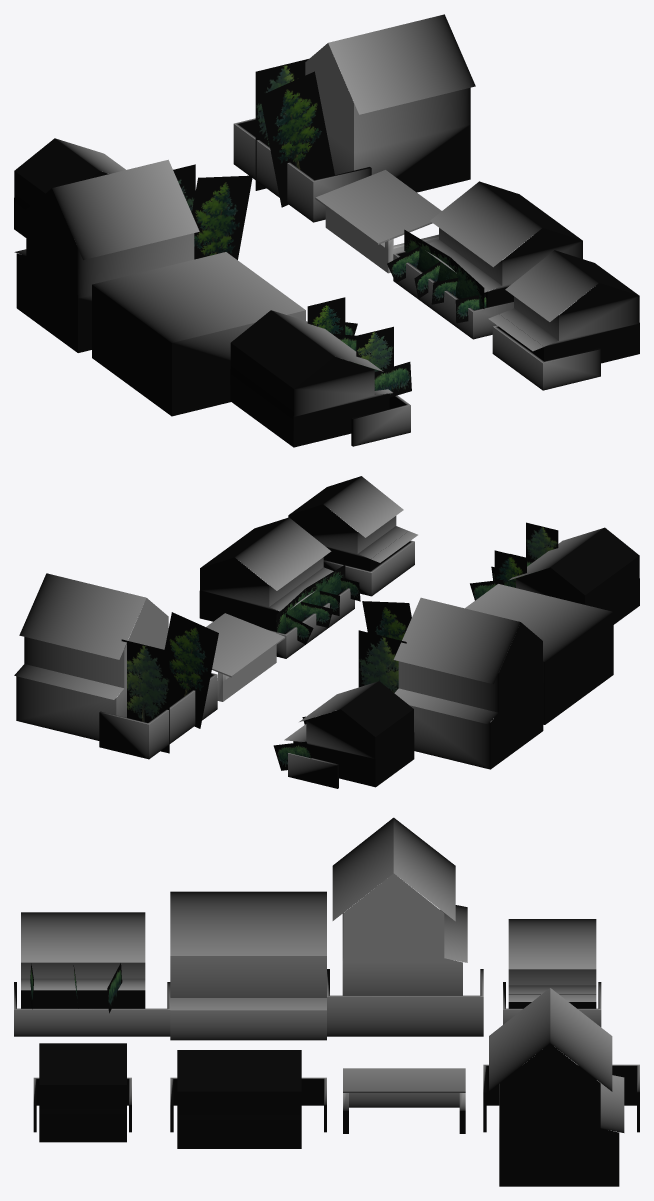
The model's file is K_BILL04.glb.
3 views of the same model, one above another, from view 1: azimuth 30°, elevation 25°; view 2: azimuth 150°, elevation 25°; view 3: azimuth 270°, elevation 25° (orthographic). The views are drawn at different scales.
Visible parts, largest first — view 1: a, c, d, b; view 2: a, b, c, d; view 3: c, b, a, d.
Part boxes in pixels (box(x1,y1,x2,y2)): a: box(14, 14, 475, 237); c: box(92, 181, 582, 416); d: box(230, 250, 639, 447); b: box(14, 159, 441, 352); a: box(14, 573, 414, 788); b: box(206, 597, 543, 769); c: box(199, 517, 613, 724); d: box(288, 476, 639, 624); c: box(170, 891, 326, 1148); b: box(327, 817, 483, 1133); a: box(483, 919, 639, 1186); d: box(14, 912, 170, 1142).
Bounding box in the file's own units: 85.42 × 26.4 × 100.
Materials: 14 (14 with a texture image).
